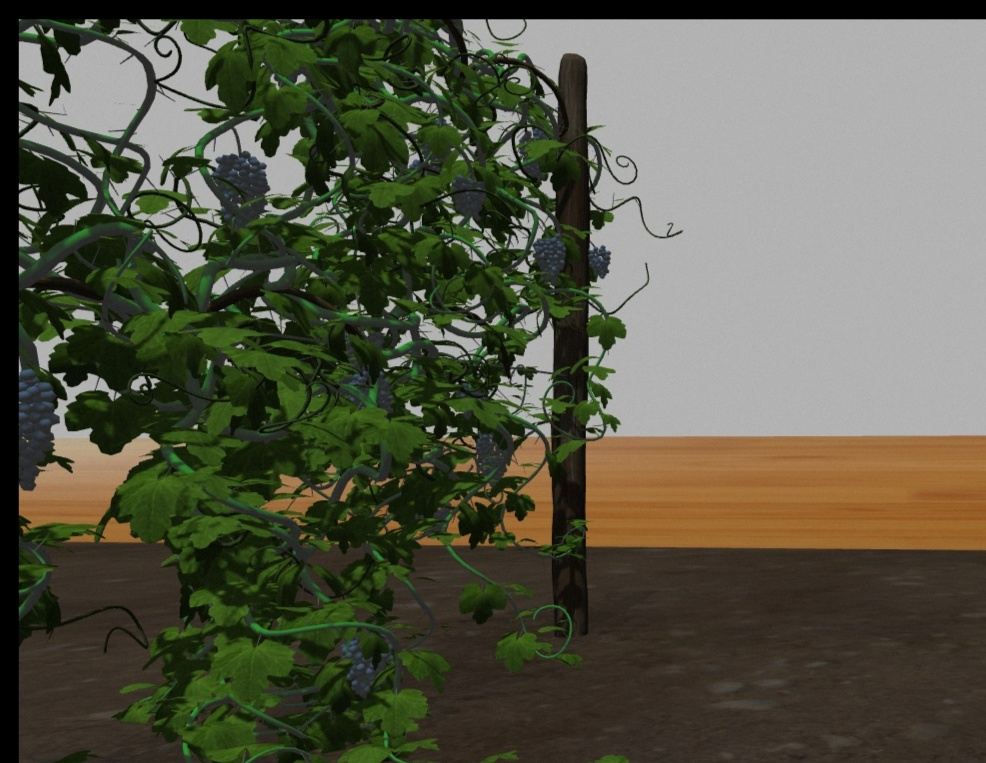grape: (212, 150, 268, 231), (21, 367, 56, 492), (340, 633, 392, 697), (474, 430, 512, 482), (531, 227, 565, 282), (450, 175, 484, 216), (588, 243, 611, 283)
